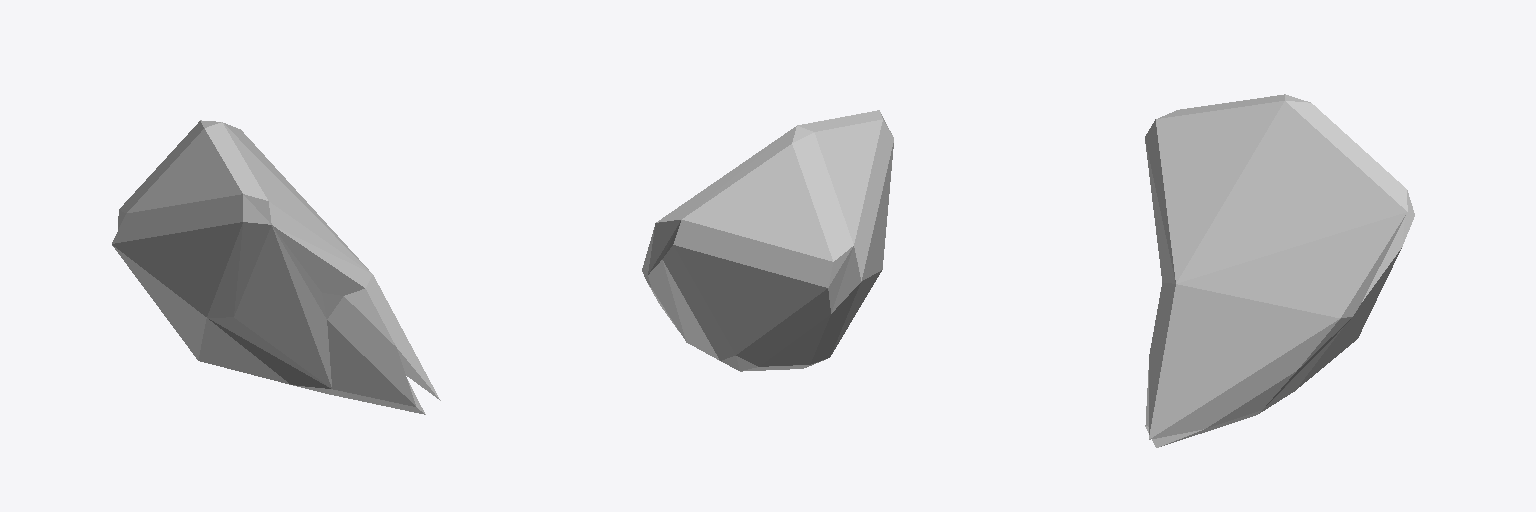
The model's file is rock_3.obj.
3 views of the same model, side by side, from view 1: azimuth 30°, elevation 25°; view 2: azimuth 150°, elevation 25°; view 3: azimuth 270°, elevation 25° (orthographic).
Visible parts, largest first — view 1: Cube.001; view 2: Cube.001; view 3: Cube.001.
Part boxes in pixels (bbox=[...]): Cube.001: bbox=[112, 120, 440, 414]; Cube.001: bbox=[642, 110, 893, 371]; Cube.001: bbox=[1145, 94, 1414, 447].
Bounding box in the file's own units: 7.18 × 8.06 × 7.06.